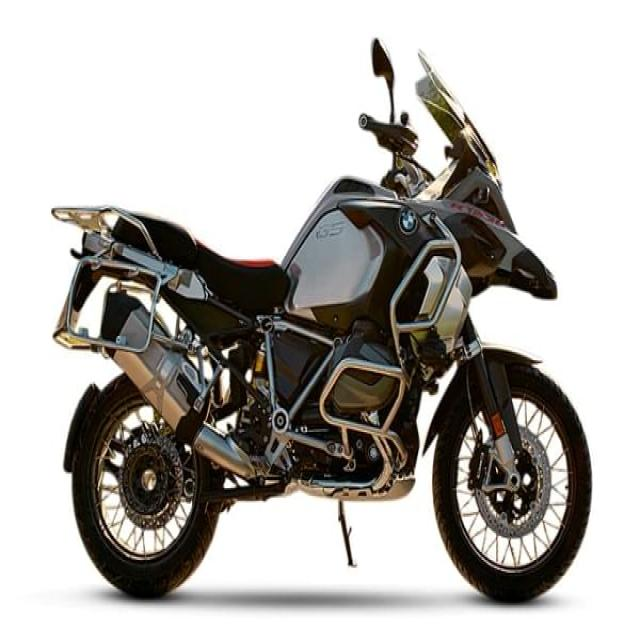bike: (50, 36, 592, 604)
